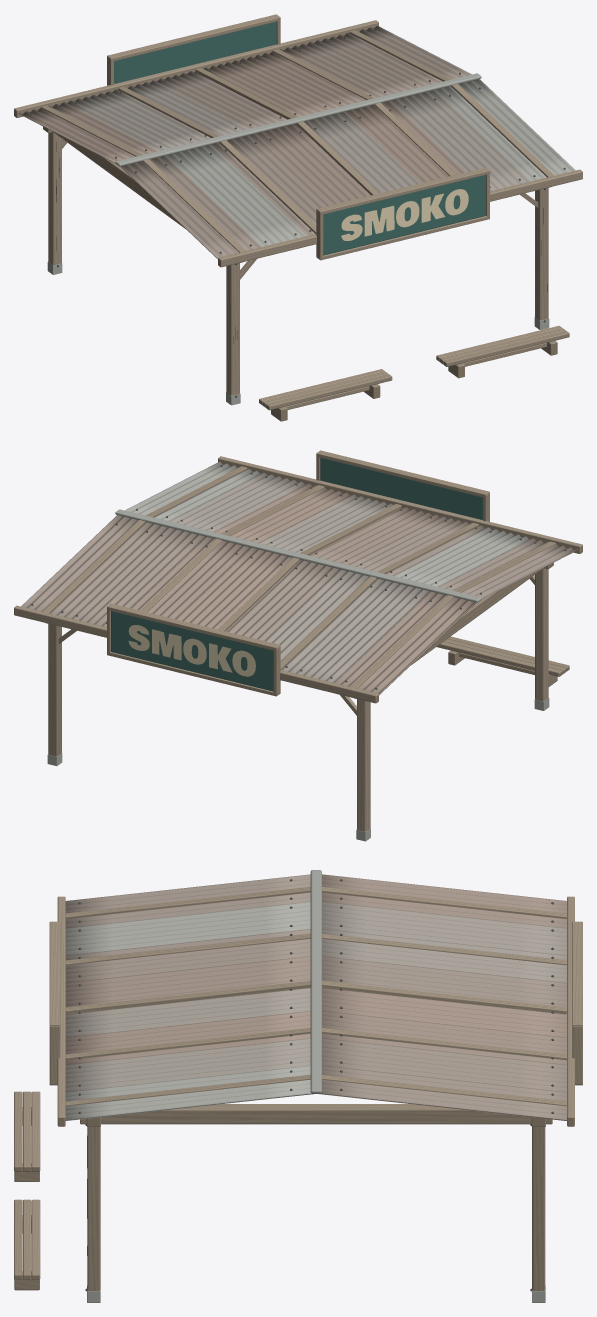
The model's file is smoko_shelter.glb.
3 views of the same model, one above another, from view 1: azimuth 30°, elevation 25°; view 2: azimuth 150°, elevation 25°; view 3: azimuth 270°, elevation 25° (orthographic). The views are drawn at different scales.
Parts seen in each view (by area): view 1: BushServo_SmokoShelter.002; view 2: BushServo_SmokoShelter.002; view 3: BushServo_SmokoShelter.002.
Part boxes in pixels (x1,y1,x2,y2): BushServo_SmokoShelter.002: (14, 14, 582, 421); BushServo_SmokoShelter.002: (14, 450, 582, 841); BushServo_SmokoShelter.002: (14, 870, 582, 1302).
Bounding box in the file's own units: 9.4 × 4.62 × 10.23.
16 materials, 11 textured.
